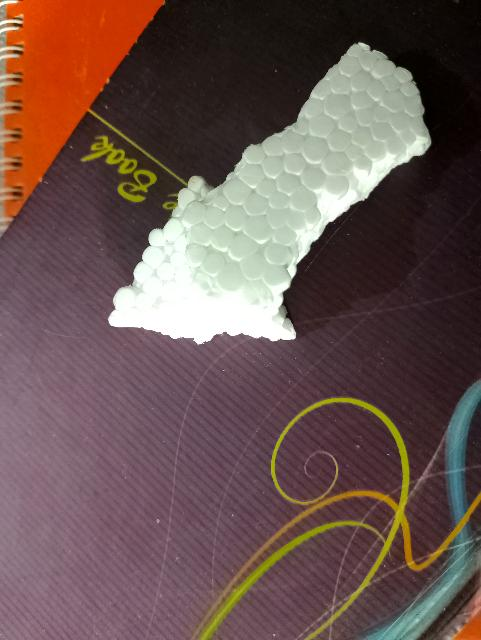cocksheet: (115, 25, 460, 390)
